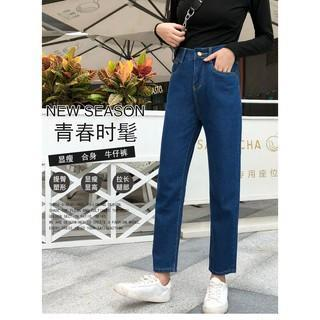pants: (152, 43, 242, 280)
